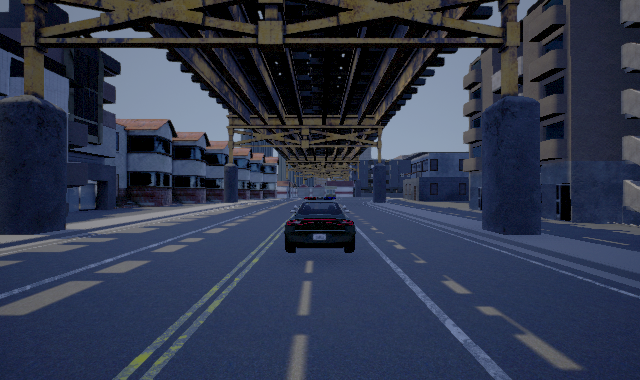vehicle: (284, 197, 356, 253)
